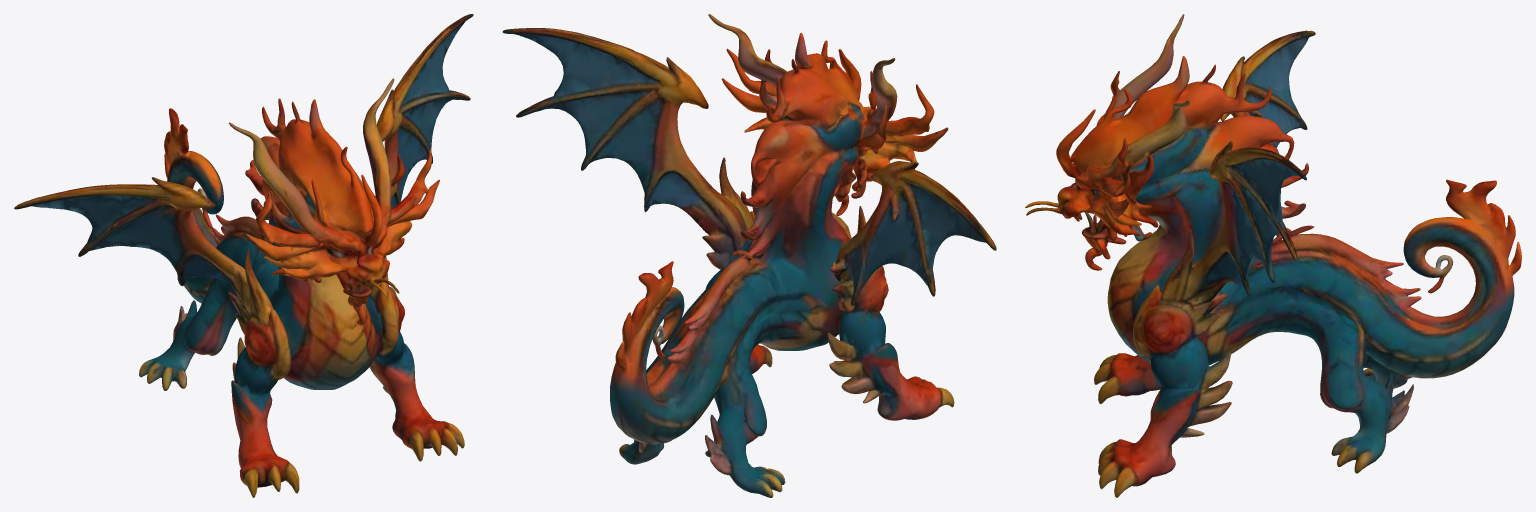
The picture shows the model from 3 angles, left to right: view 1: azimuth 30°, elevation 25°; view 2: azimuth 150°, elevation 25°; view 3: azimuth 270°, elevation 25°; orthographic projection. The views are drawn at different scales.
Visible parts, largest first — view 1: tripo_node_b24a013a-a8e5-4074-b7fe-7d6f882fd9a5; view 2: tripo_node_b24a013a-a8e5-4074-b7fe-7d6f882fd9a5; view 3: tripo_node_b24a013a-a8e5-4074-b7fe-7d6f882fd9a5.
Boxes of the visible parts, x1=… form: tripo_node_b24a013a-a8e5-4074-b7fe-7d6f882fd9a5: x1=14, y1=14, x2=473, y2=497; tripo_node_b24a013a-a8e5-4074-b7fe-7d6f882fd9a5: x1=502, y1=14, x2=996, y2=497; tripo_node_b24a013a-a8e5-4074-b7fe-7d6f882fd9a5: x1=1025, y1=14, x2=1521, y2=497.
Bounding box in the file's own units: 1 × 0.7453 × 0.8812.
1 material, 1 textured.
